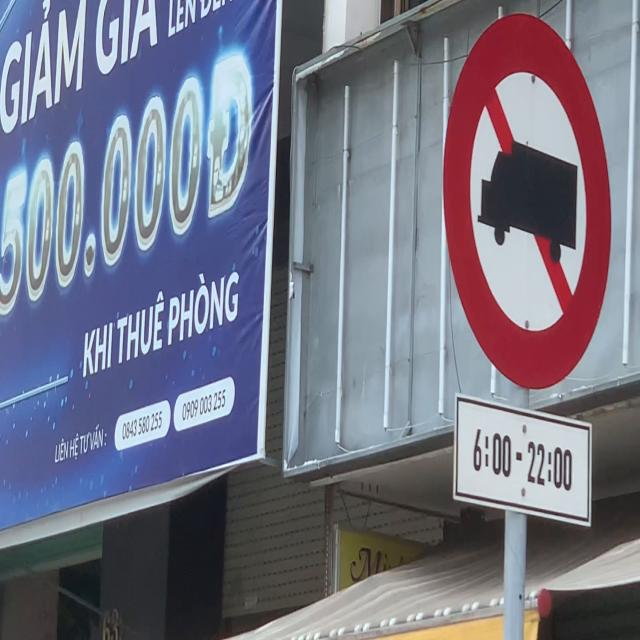Cam con lai: (440, 11, 614, 392)
